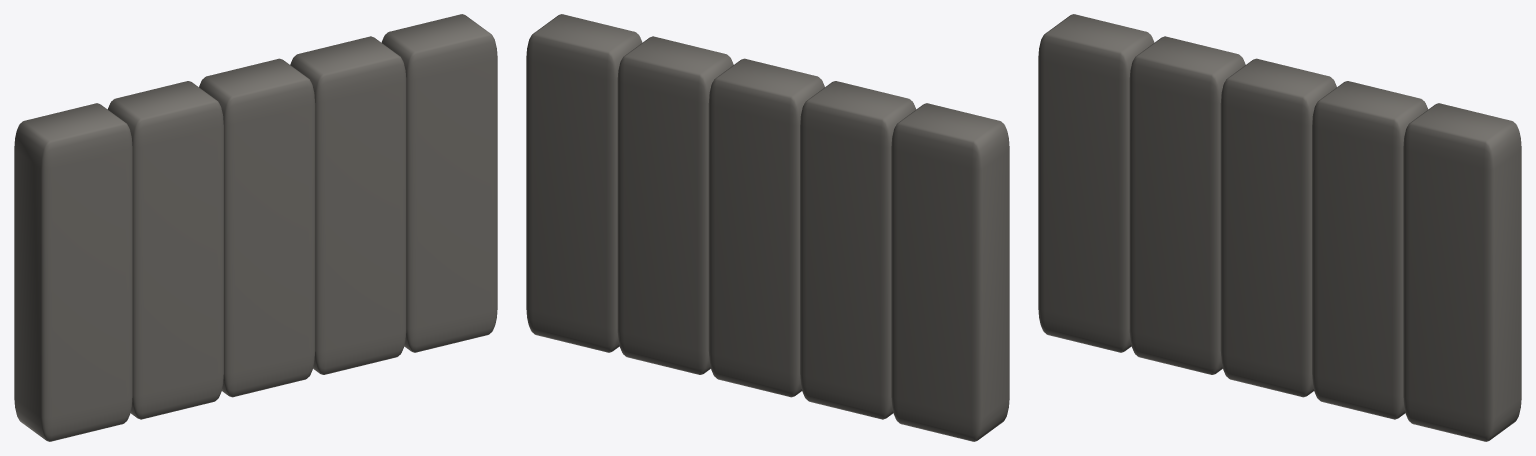
File: fence.fbx
The picture shows the model from 3 angles, left to right: view 1: azimuth 30°, elevation 25°; view 2: azimuth 150°, elevation 25°; view 3: azimuth 330°, elevation 25°; orthographic projection.
Parts seen in each view (by area): view 1: Cube; view 2: Cube; view 3: Cube.
Part boxes in pixels (x1,y1,x2,y2): Cube: [14, 14, 497, 441]; Cube: [526, 14, 1009, 441]; Cube: [1038, 14, 1521, 441].
Bounding box in the file's own units: 20 × 167 × 106.
